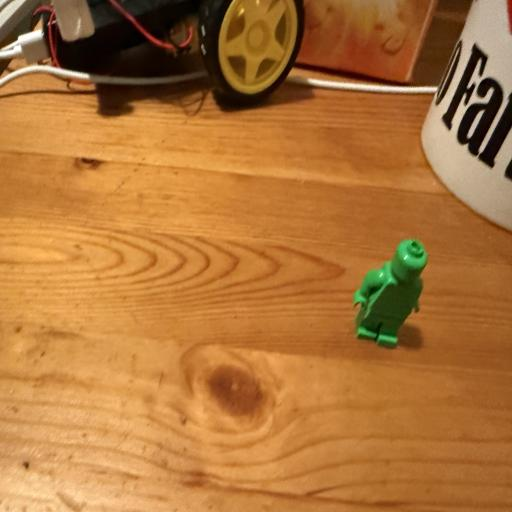Minifig: (354, 239, 427, 347)
